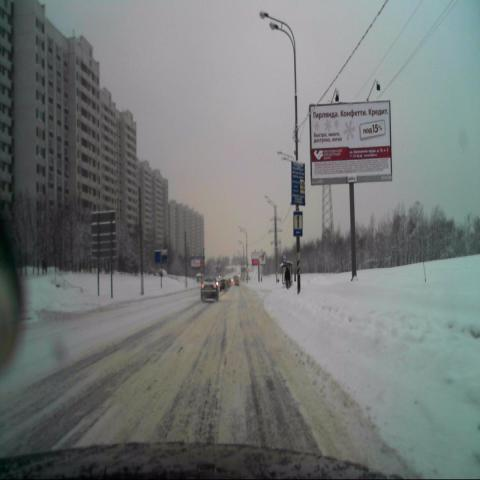7_4: (294, 211, 303, 237)
